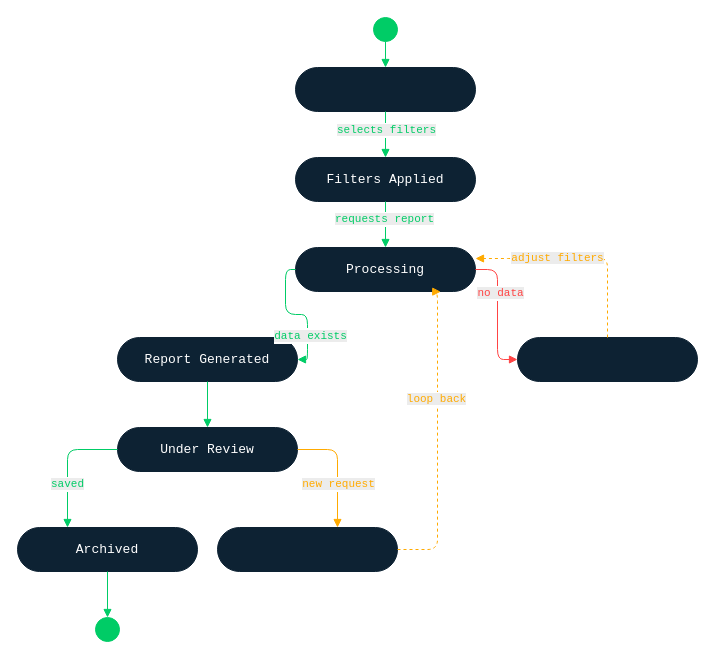
The diagram is 715 pixels wide and 659 high, and some of its shapes have lost their labels. The box of each missing label's shape, as (x1, y1, x2, y2) in pixels:
Module Opened: (294, 66, 476, 112)
New Report Req.: (216, 526, 398, 572)
No Data Found: (516, 336, 698, 382)
